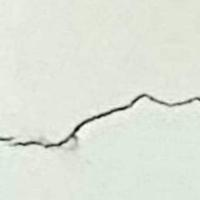crack: (0, 94, 199, 155)
